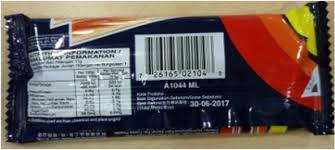Barcode: (143, 35, 216, 78)
